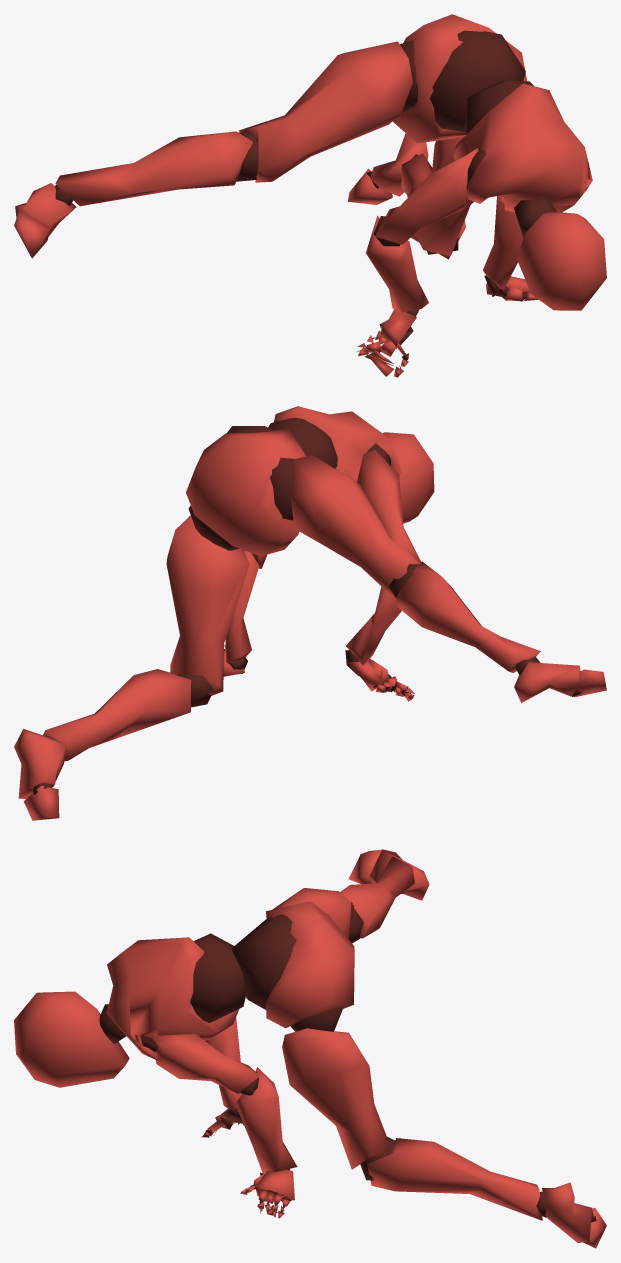
3 renders of one model, top to bottom at view 1: azimuth 30°, elevation 25°; view 2: azimuth 150°, elevation 25°; view 3: azimuth 270°, elevation 25°, orthographic. The views are drawn at different scales.
Visible parts, largest first — view 1: Beta_Surface; view 2: Beta_Surface; view 3: Beta_Surface.
Boxes of the visible parts, x1,y1,x2,y2 form: Beta_Surface: (14, 14, 606, 377); Beta_Surface: (14, 406, 606, 820); Beta_Surface: (14, 849, 606, 1248).
Bounding box in the file's own units: 14.48 × 8.45 × 15.18.
